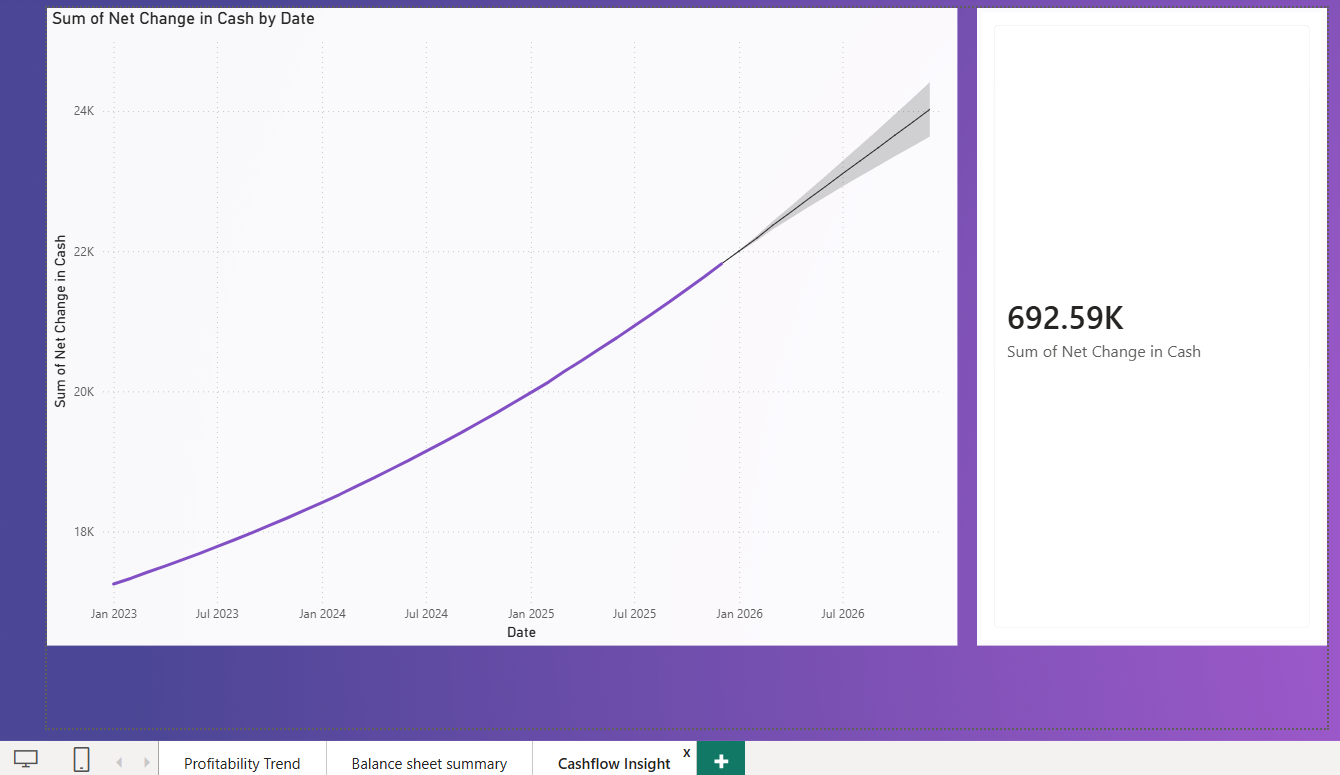

The page's visual inventory and layout, read from the dashboard file:
{"tool":"powerbi","page":{"name":"Cashflow Insight","canvas":[1280,720],"ordinal":2},"visuals":[{"type":"lineChart","fields":{"Y":["Sum(Cash_Flow.Net Change in Cash)"],"Category":["Cash_Flow.Date"]},"box":[0,0,910,637.5],"z":0},{"type":"cardVisual","fields":{"Data":["Sum(Cash_Flow.Net Change in Cash)"]},"box":[930,0,350,637.5],"z":1}]}

Visuals, with their boxes in screenshot pixels (x1, y1, x2, y2):
lineChart - Sum(Cash_Flow.Net Change in Cash) x Cash_Flow.Date: 45 3 952 638
cardVisual - Sum(Cash_Flow.Net Change in Cash): 971 3 1320 638
